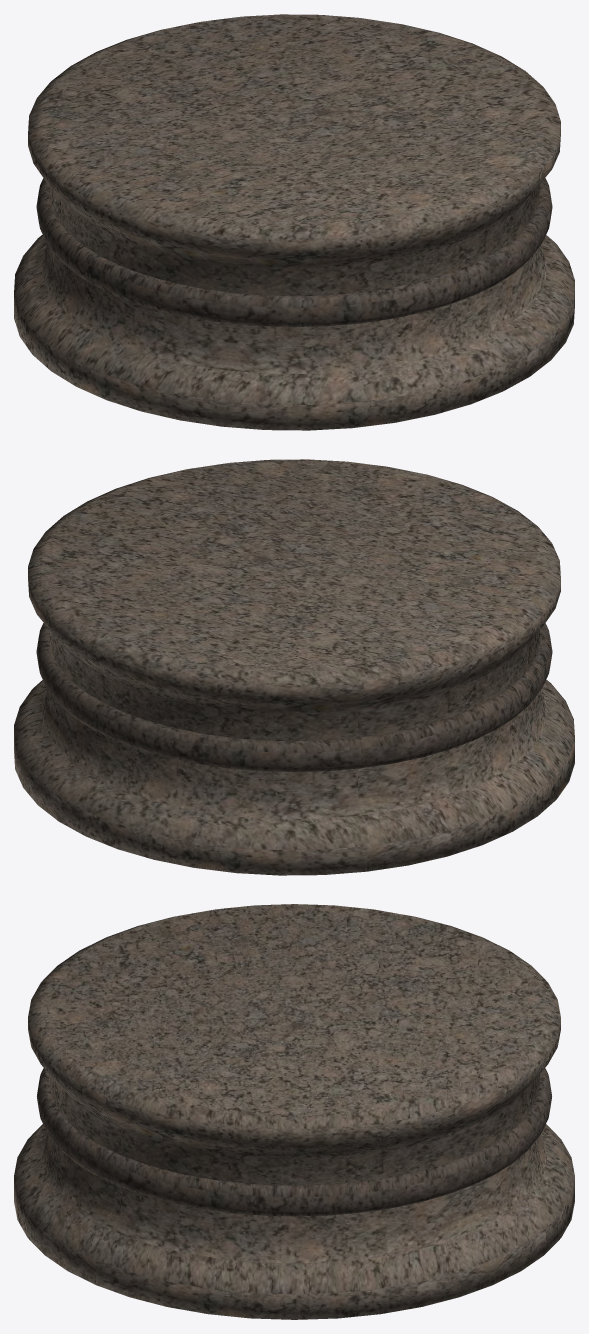
The model's file is statue_plinth.glb.
3 renders of one model, top to bottom at view 1: azimuth 30°, elevation 25°; view 2: azimuth 150°, elevation 25°; view 3: azimuth 270°, elevation 25°, orthographic.
Visible parts, largest first — view 1: statue_plinth; view 2: statue_plinth; view 3: statue_plinth.
Part boxes in pixels (x1=…): statue_plinth: x1=14, y1=14, x2=574, y2=430; statue_plinth: x1=14, y1=459, x2=574, y2=875; statue_plinth: x1=14, y1=904, x2=574, y2=1319.
Size of the model in its own units: 1.6 by 0.6 by 1.6.
Materials: 2 (2 with a texture image).
